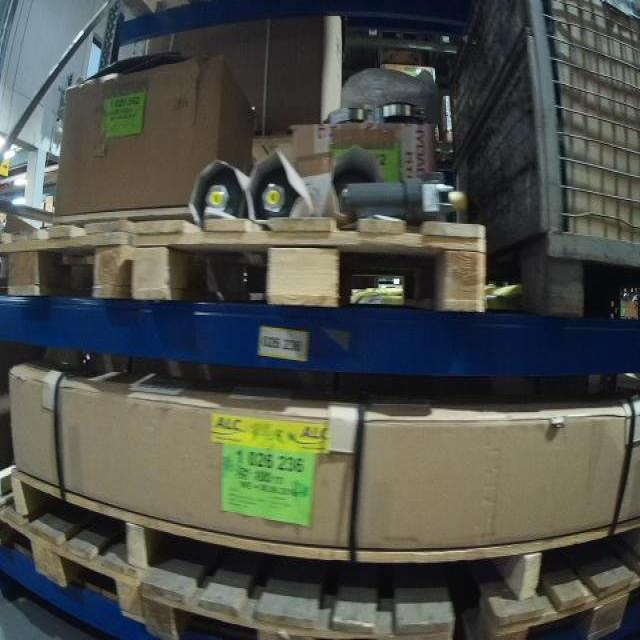pallet: (128, 216, 481, 314), (143, 549, 453, 640), (2, 492, 143, 625), (454, 546, 640, 640), (0, 216, 126, 295)
stillage: (447, 0, 639, 317)
